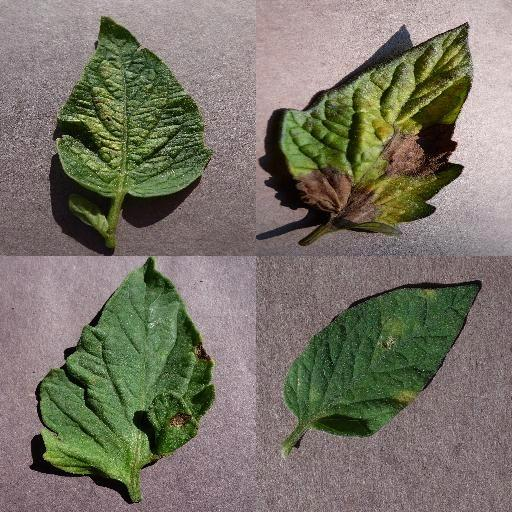Early Blight: (37, 258, 215, 478)
Late Blight: (281, 20, 473, 234)
Leaf Mold: (282, 282, 482, 438)
Spider Mites: (56, 13, 212, 199)
